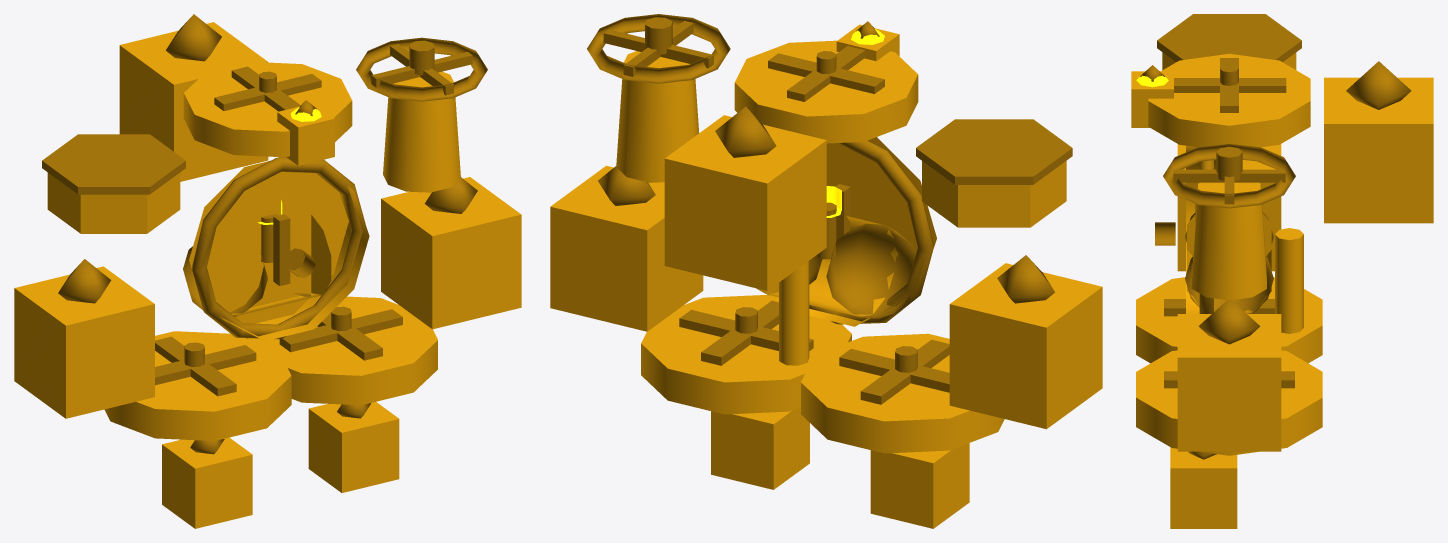
The model's file is golem_064.glb.
The picture shows the model from 3 angles, left to right: view 1: azimuth 30°, elevation 25°; view 2: azimuth 150°, elevation 25°; view 3: azimuth 270°, elevation 25°; orthographic projection. The views are drawn at different scales.
Visible parts, largest first — view 1: Body, Detail; view 2: Body, Detail, Glow; view 3: Body, Detail.
Boxes of the visible parts, x1,y1,x2,y2 form: Body: (14,22,521,528); Detail: (42,14,487,454); Body: (550,24,1102,528); Detail: (587,14,1072,404); Glow: (826,29,884,217); Body: (1131,52,1433,528); Detail: (1140,14,1411,459).
Size of the model in its own units: 1.6 by 1.39 by 0.9141.
